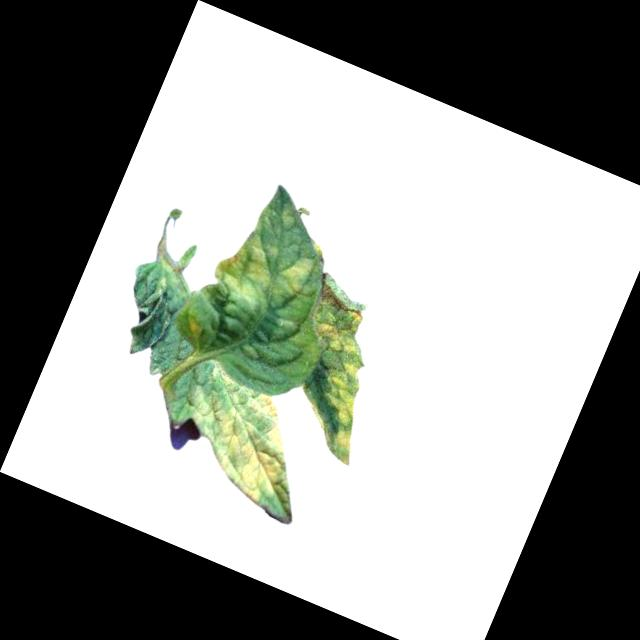Leaf_Mold: (262, 276, 414, 467), (167, 358, 332, 518), (205, 222, 287, 312), (269, 247, 326, 311)
